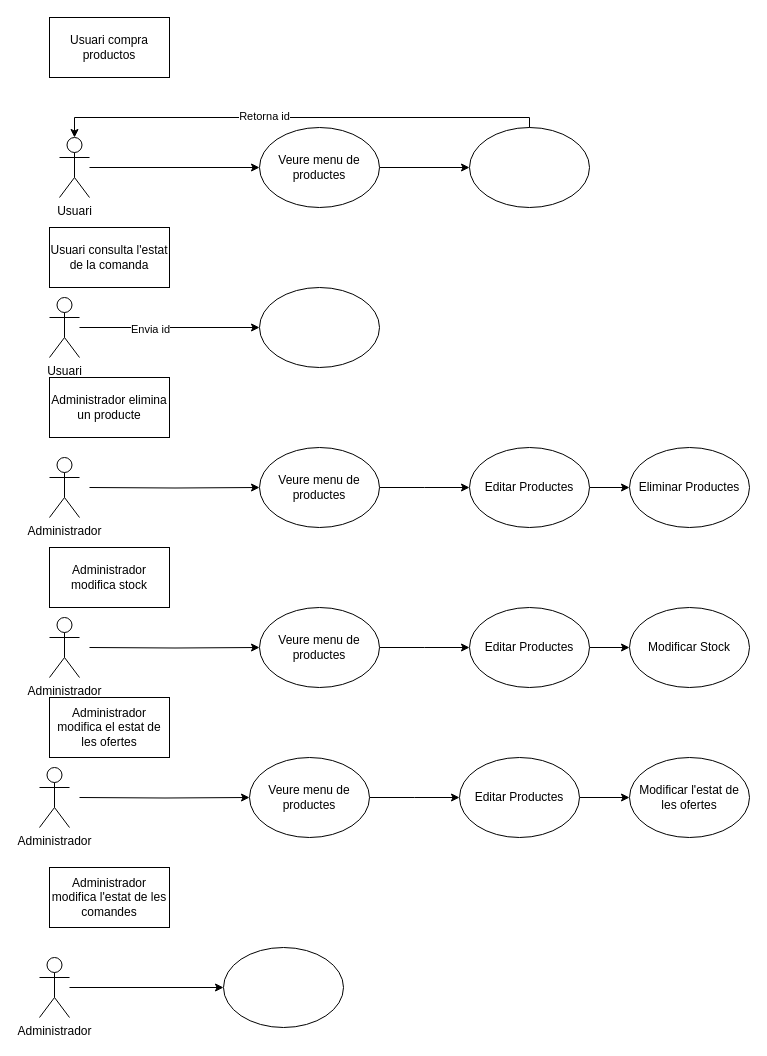
Image size: 767x1056. Some labels were removed from this diagram. Here are the shapes that lost their labels. From the top down, the centre of each, then its label:
At pixel 529 167: "Comprar productes".
At pixel 319 327: "Consultar estat de comanda".
At pixel 283 987: "Modificar estats de les comandes".
